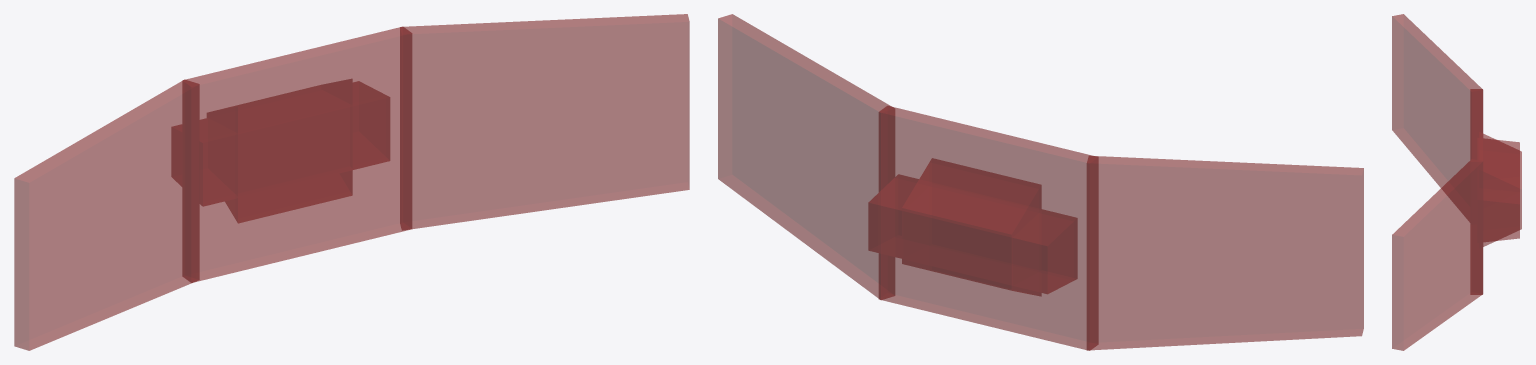
The model's file is SM_Bld_Corp_Radar_01_Top_01_Collision.fbx.
The picture shows the model from 3 angles, left to right: view 1: azimuth 30°, elevation 25°; view 2: azimuth 150°, elevation 25°; view 3: azimuth 270°, elevation 25°; orthographic projection. The views are drawn at different scales.
Parts seen in each view (by area): view 1: SM_Bld_Corp_Radar_01_Top_01_Collision; view 2: SM_Bld_Corp_Radar_01_Top_01_Collision; view 3: SM_Bld_Corp_Radar_01_Top_01_Collision.
Boxes of the visible parts, bbox=[...] form: SM_Bld_Corp_Radar_01_Top_01_Collision: bbox=[14, 14, 689, 350]; SM_Bld_Corp_Radar_01_Top_01_Collision: bbox=[718, 14, 1363, 350]; SM_Bld_Corp_Radar_01_Top_01_Collision: bbox=[1392, 14, 1521, 350].
Bounding box in the file's own units: 1722 × 479 × 423.
